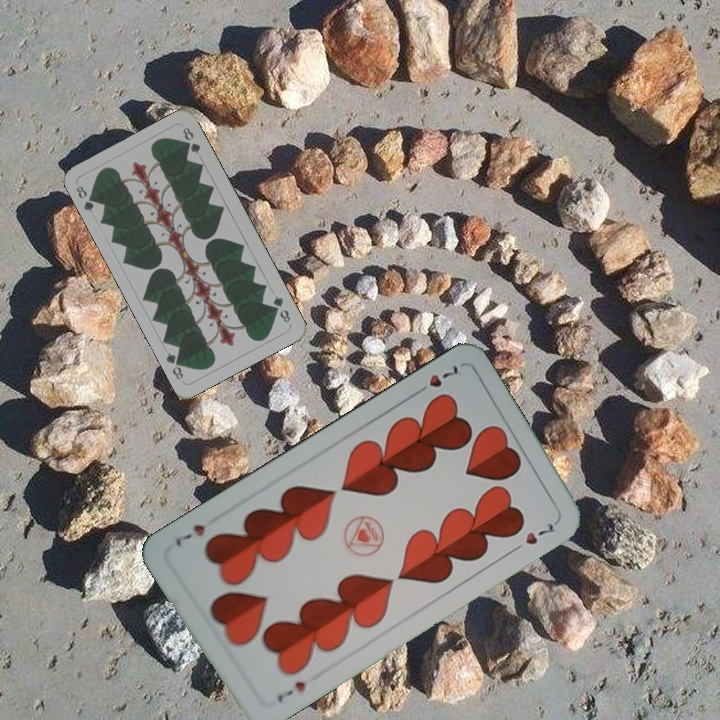G8: (72, 181, 99, 215), (269, 292, 293, 325)
H7: (410, 361, 464, 399), (273, 677, 308, 705)
